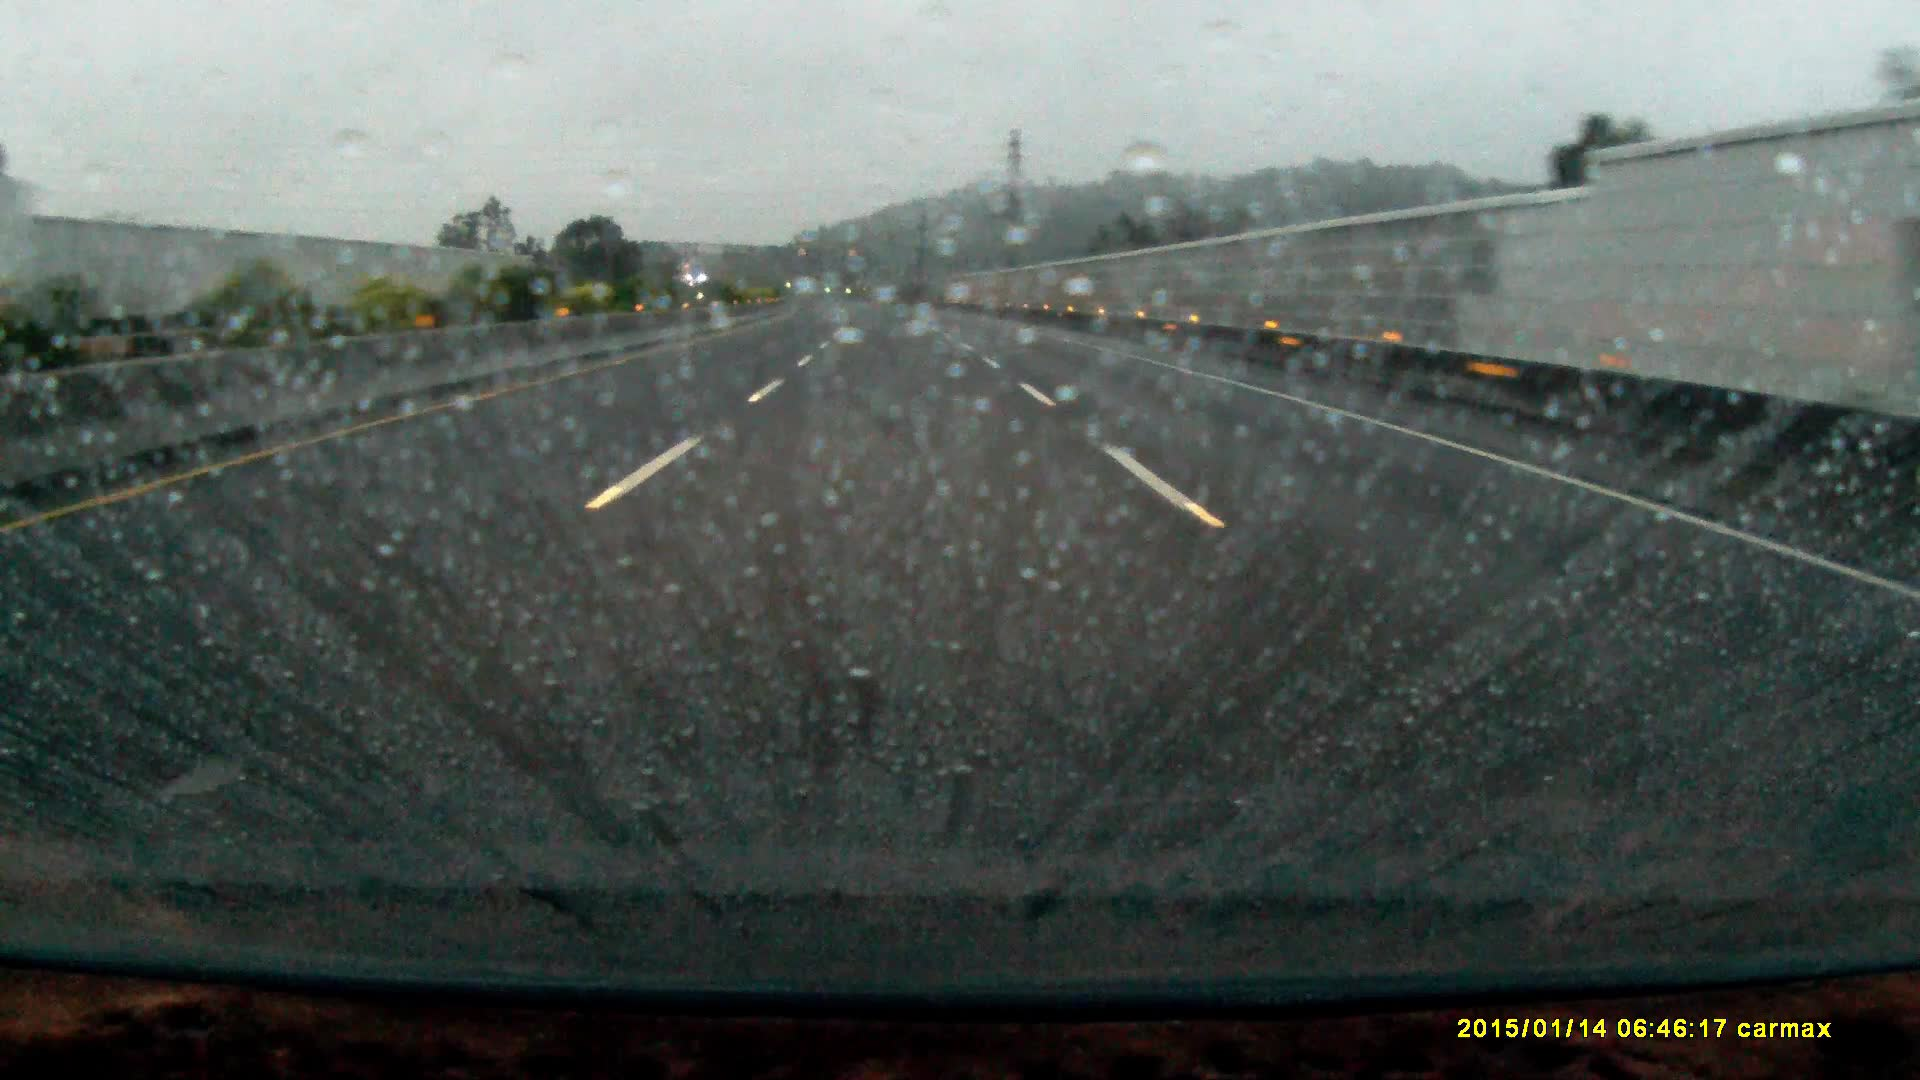vehicle: (1, 174, 32, 357)
